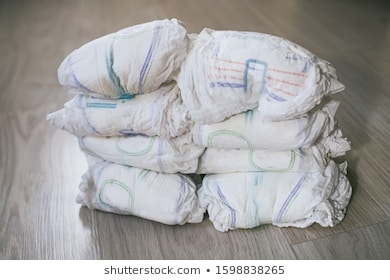paper: (178, 25, 346, 125), (189, 162, 364, 233), (66, 155, 207, 234), (53, 16, 193, 91), (42, 87, 189, 141), (69, 126, 201, 179), (184, 114, 348, 154), (192, 139, 343, 174)
